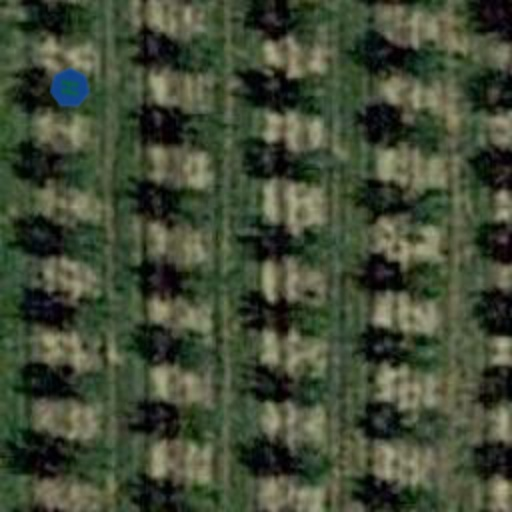heptagon: (48, 66, 92, 110)
